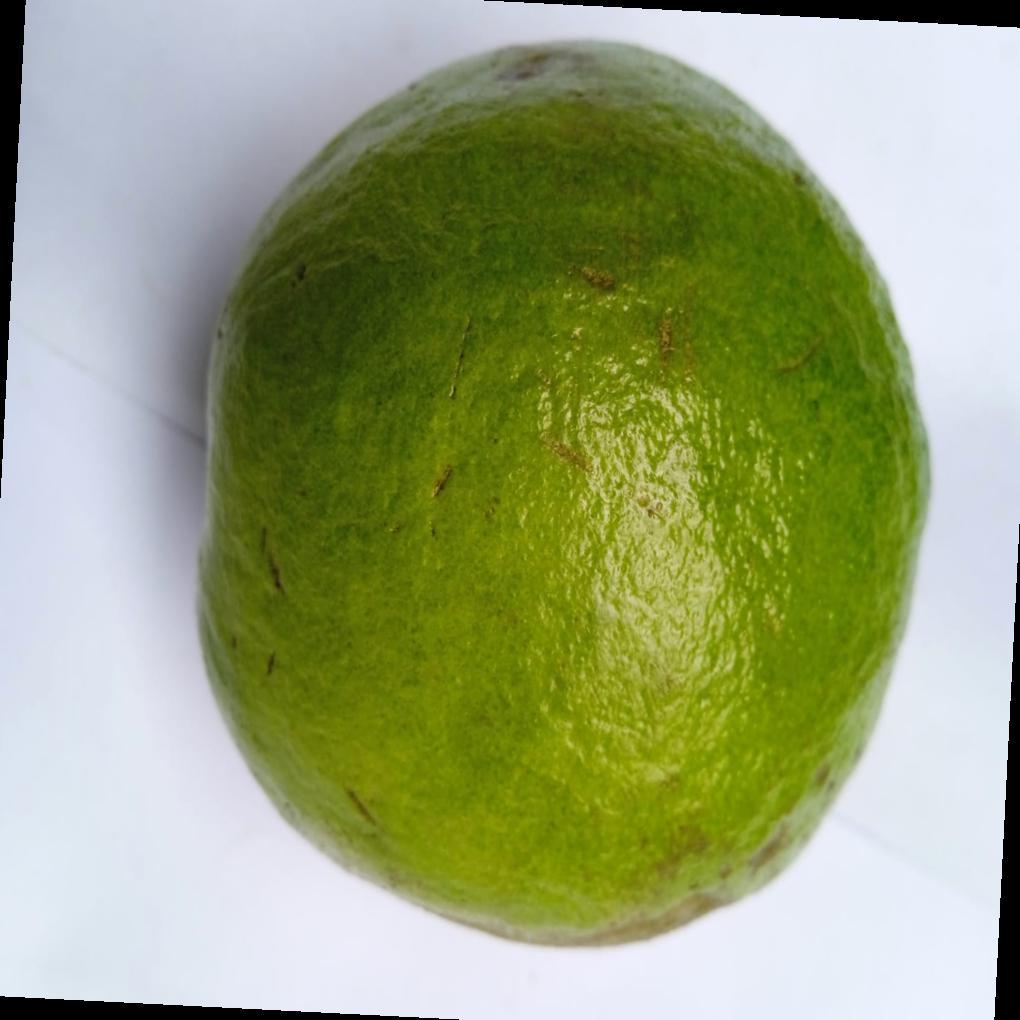FreshGuava: (194, 42, 935, 952)
